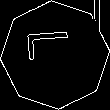L_E: (29, 38, 81, 72)
